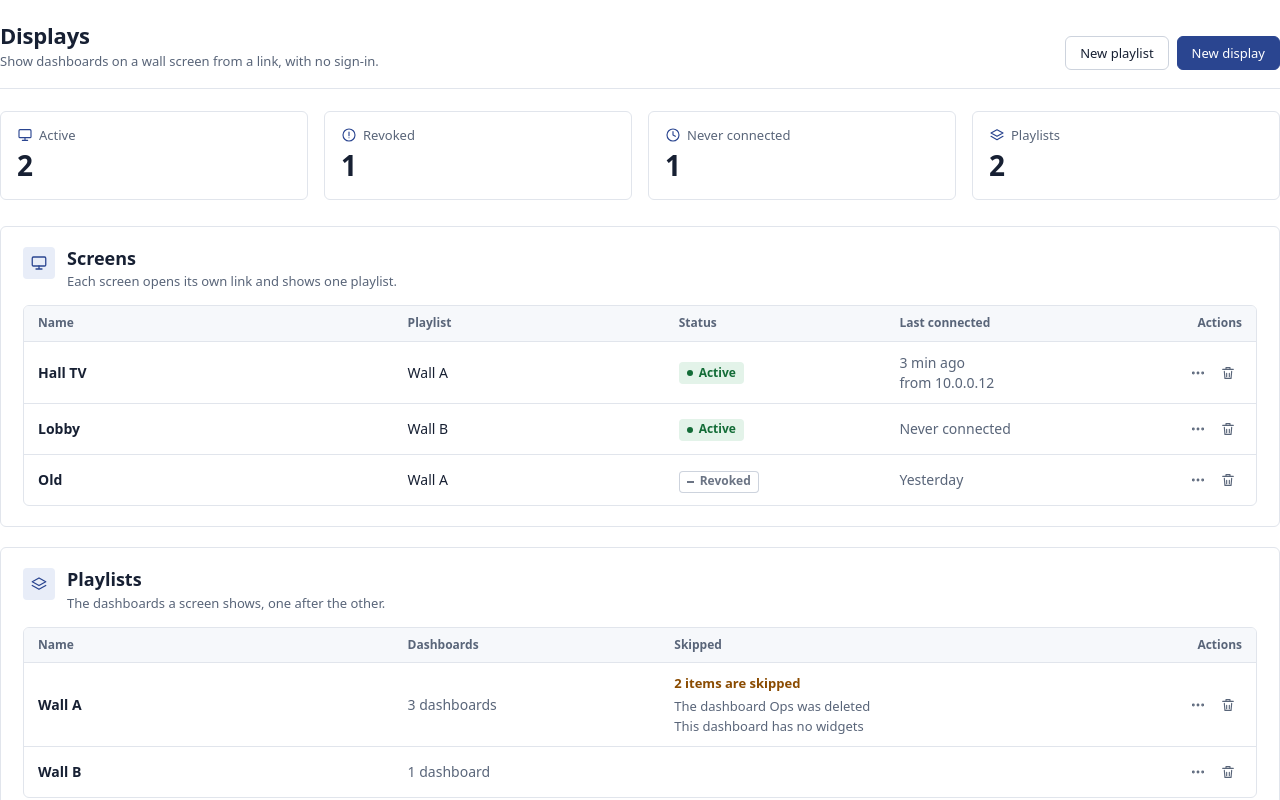
Test: DisplaysPage: Revoke › asks first, in the page's words, and does nothing on Cancel or Escape
Check: the cell "Hall TV" is shown, box [24,342,394,404]
Click the button named "Actions for Hall TV" at (1198, 373), box [1184,359,1212,387]
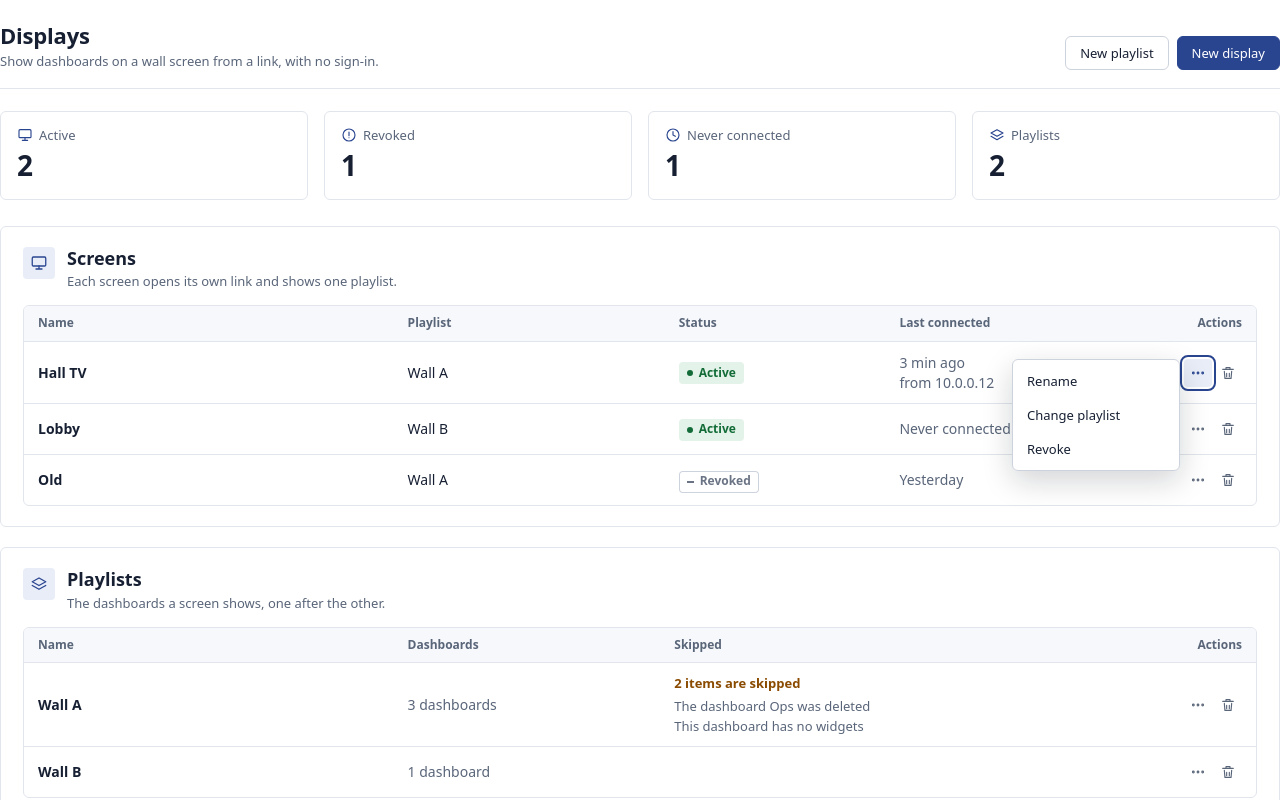
Click the menu item "Revoke" at (1096, 449), box [1017,432,1175,466]
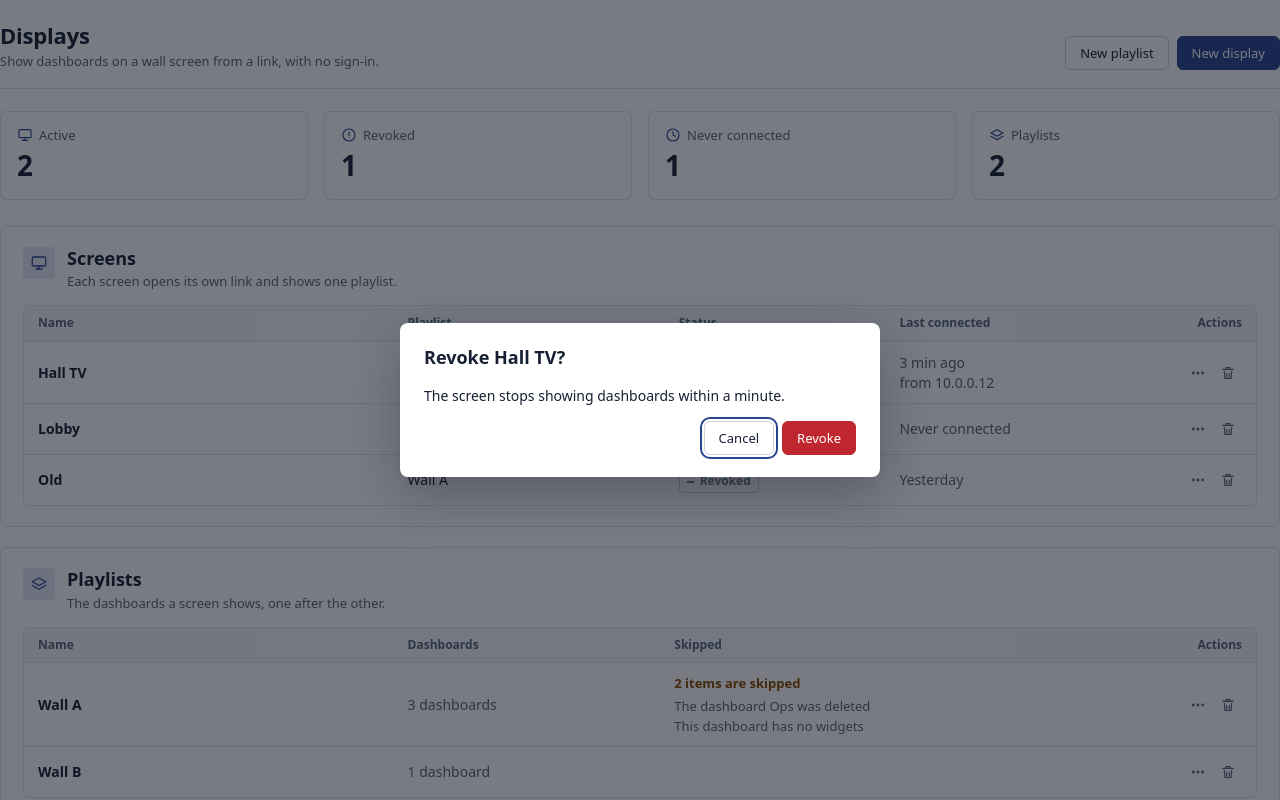
Check: the buttons read "Cancel", "Revoke", in this order
Click the button "Cancel" at (739, 438), box [704,421,774,455]
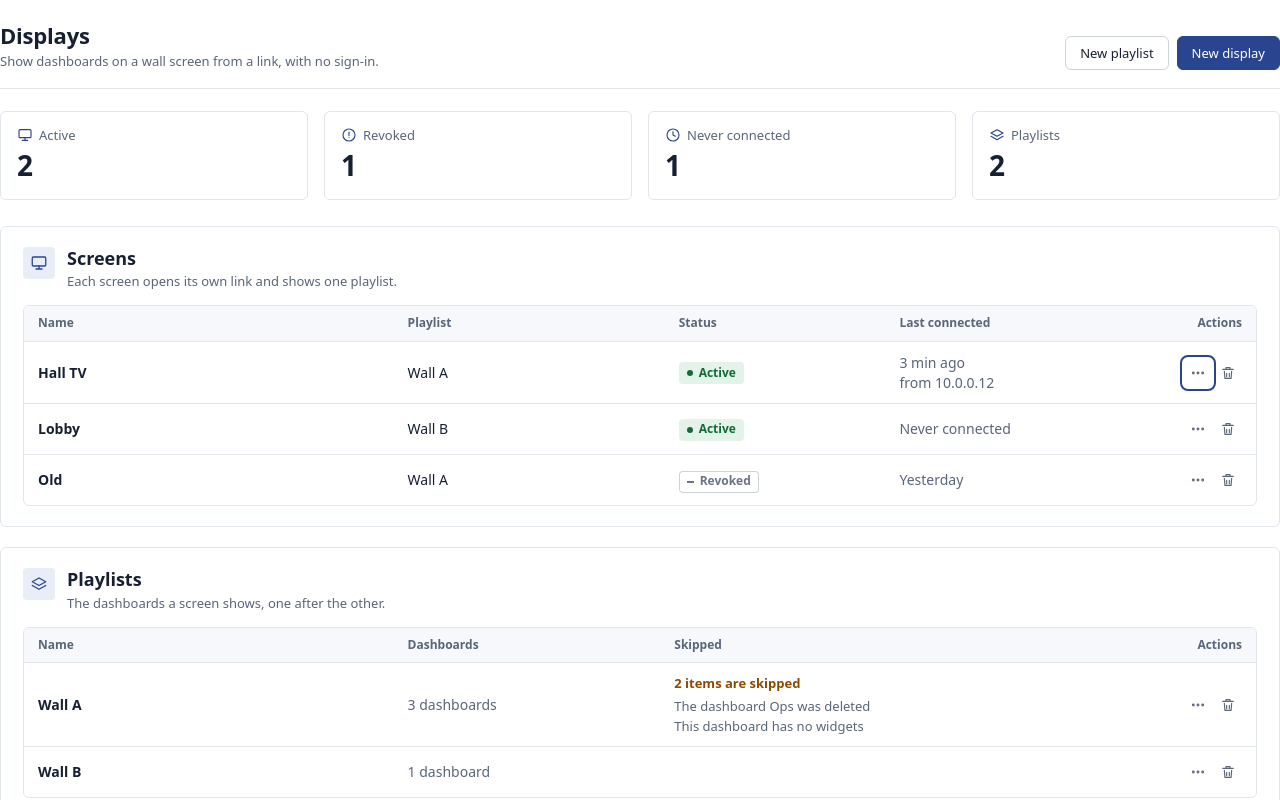
Check: the dialog is gone
Click the button named "Actions for Hall TV" at (1198, 373), box [1184,359,1212,387]
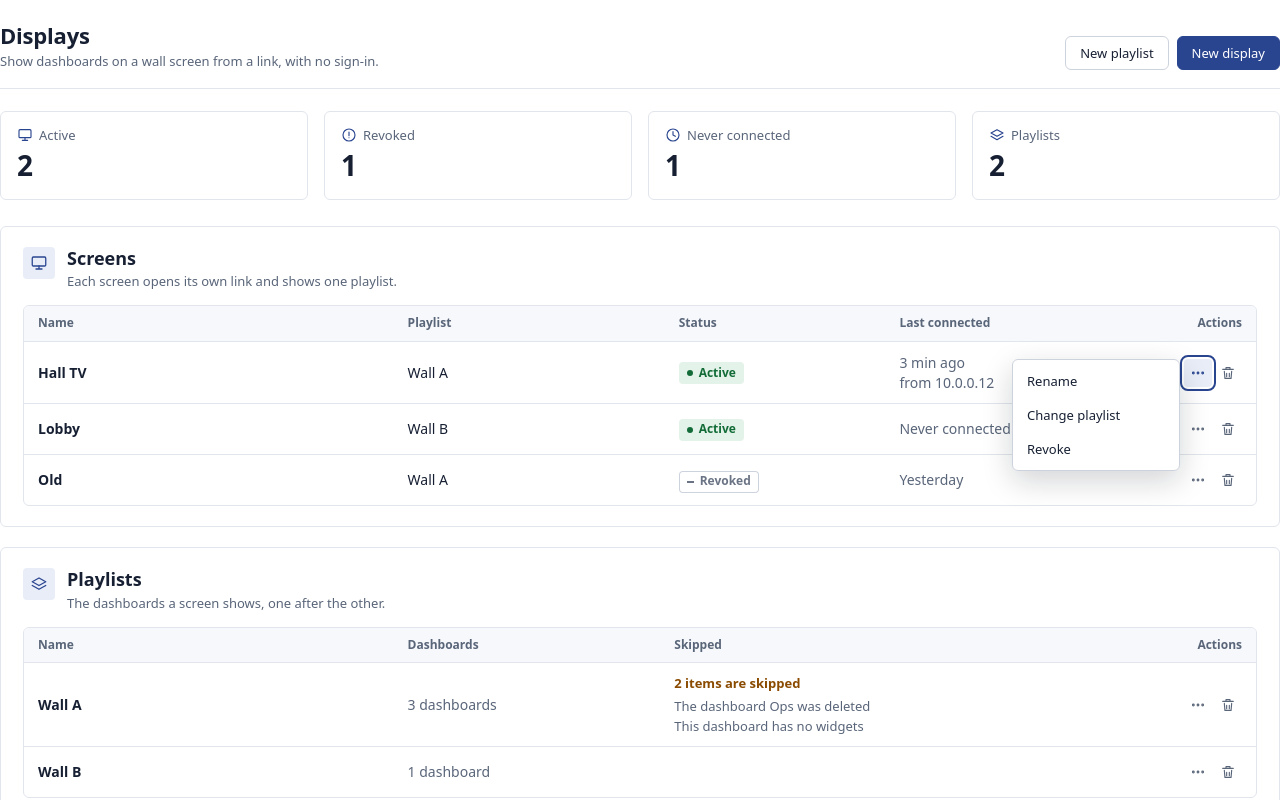
Click the menu item "Revoke" at (1096, 449), box [1017,432,1175,466]
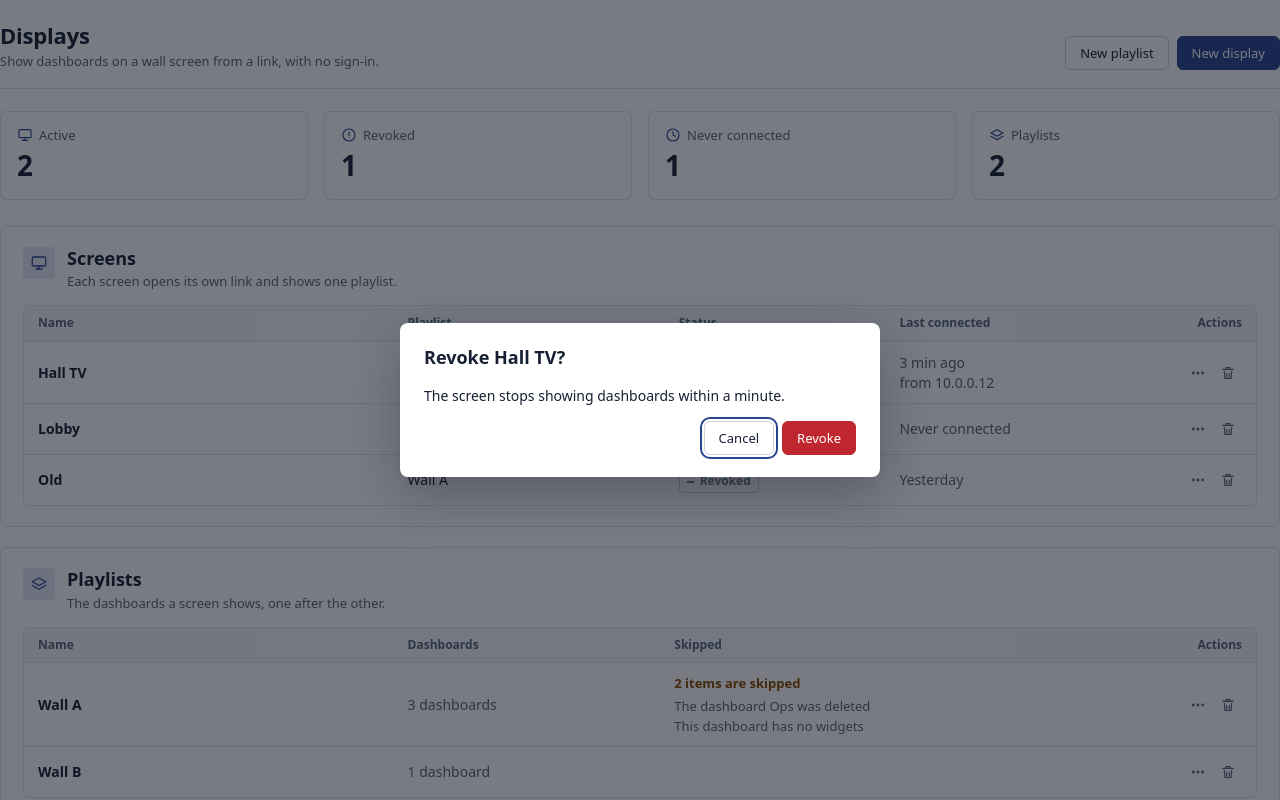
Press Escape
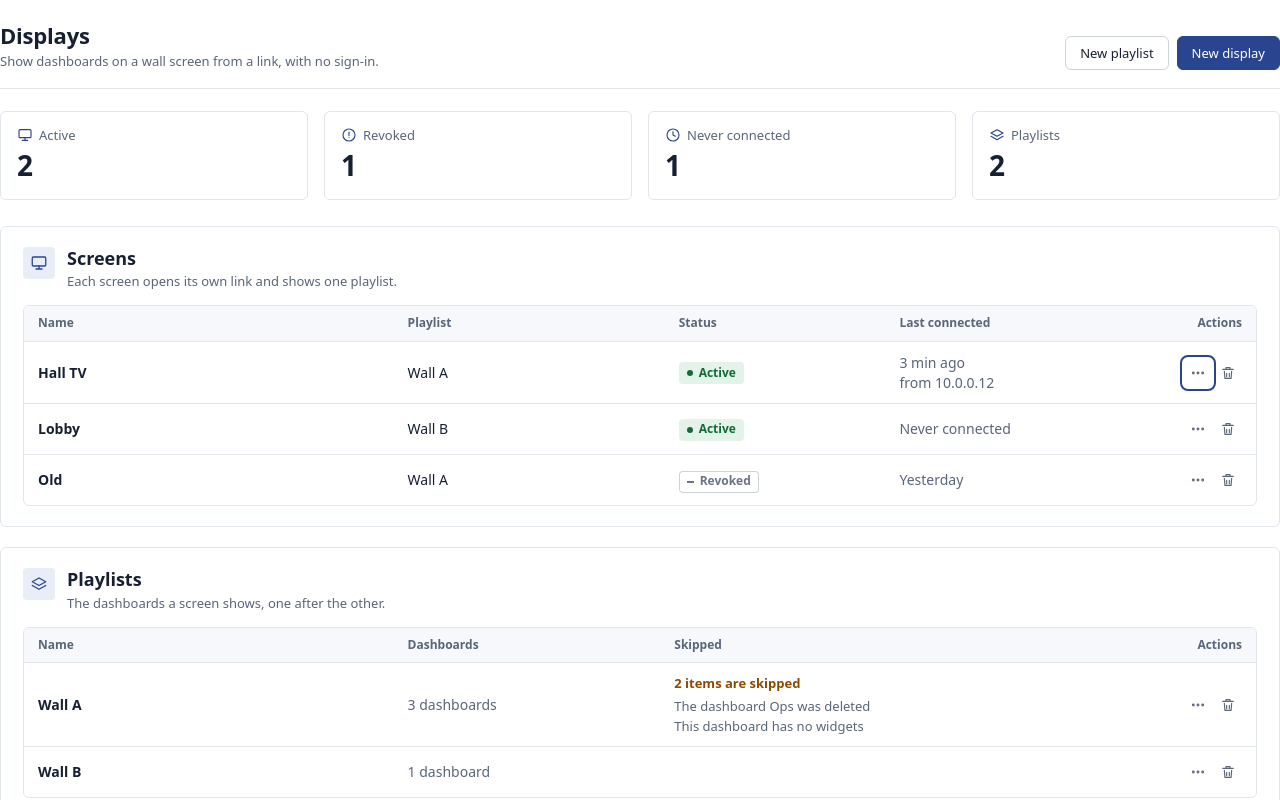
Check: the dialog is gone
